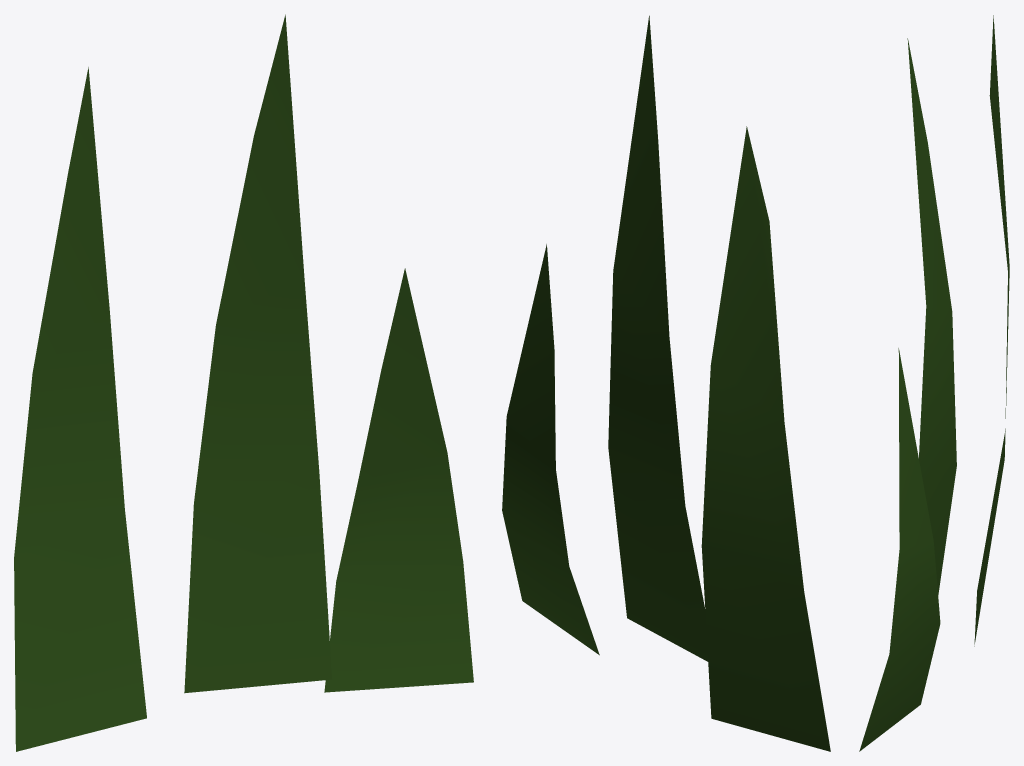
Rendered from cesped10.glb.
The picture shows the model from 3 angles, left to right: view 1: azimuth 30°, elevation 25°; view 2: azimuth 150°, elevation 25°; view 3: azimuth 270°, elevation 25°; orthographic projection. The views are drawn at different scales.
Parts seen in each view (by area): view 1: cesped 10; view 2: cesped 10; view 3: cesped 10.
Part boxes in pixels (left/top/right/bottom): cesped 10: left=14, top=14, right=473, bottom=751; cesped 10: left=502, top=15, right=830, bottom=751; cesped 10: left=859, top=15, right=1009, bottom=751.
Bounding box in the file's own units: 0.3434 × 0.581 × 0.1201.
